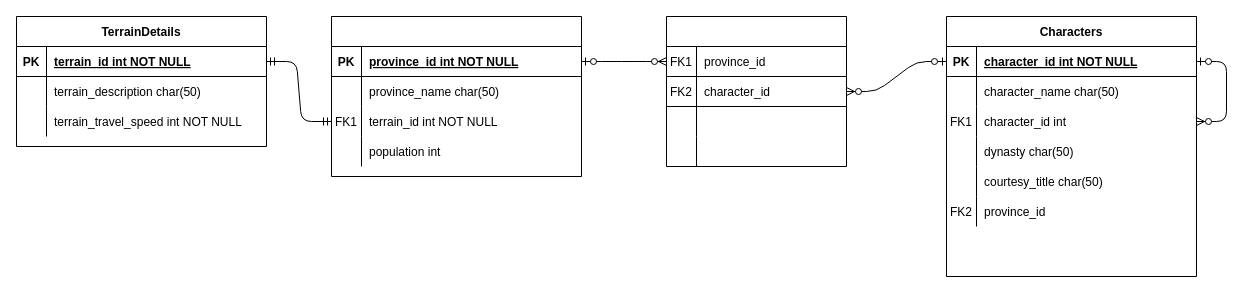
Image size: 1243x293. Some labels were removed from this diagram. The box of each missing label's shape, as (x1, y1, x2, y2) in pixels:
CharacterProvinces: (666, 16, 846, 166)
Provinces: (330, 16, 582, 176)
